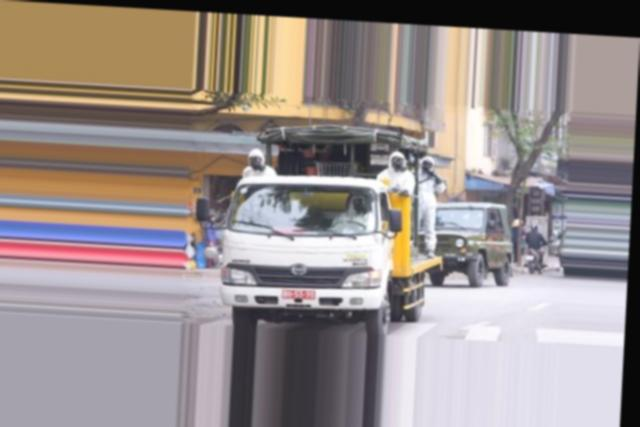License_Plate: (278, 287, 317, 300)
